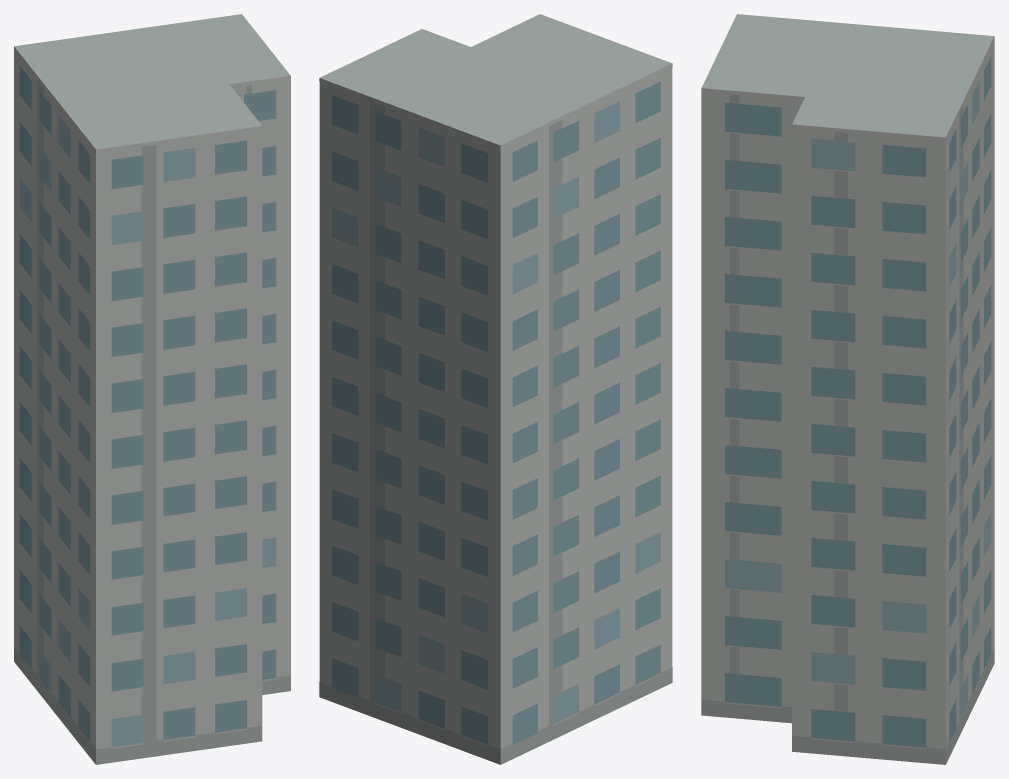
The model's file is residential-fe6ba846-8869-499b-8c62-0551fb3388b9.glb.
3 views of the same model, side by side, from view 1: azimuth 30°, elevation 25°; view 2: azimuth 150°, elevation 25°; view 3: azimuth 270°, elevation 25° (orthographic).
Parts seen in each view (by area): view 1: residential-fe6ba846-8869-499b-8c62-0551fb3388b9.tmp; view 2: residential-fe6ba846-8869-499b-8c62-0551fb3388b9.tmp; view 3: residential-fe6ba846-8869-499b-8c62-0551fb3388b9.tmp.
Part boxes in pixels (left/top/right/bottom): residential-fe6ba846-8869-499b-8c62-0551fb3388b9.tmp: left=14, top=14, right=290, bottom=764; residential-fe6ba846-8869-499b-8c62-0551fb3388b9.tmp: left=319, top=14, right=672, bottom=764; residential-fe6ba846-8869-499b-8c62-0551fb3388b9.tmp: left=701, top=14, right=994, bottom=764.
Bounding box in the file's own units: 16.9 × 40 × 16.94.
